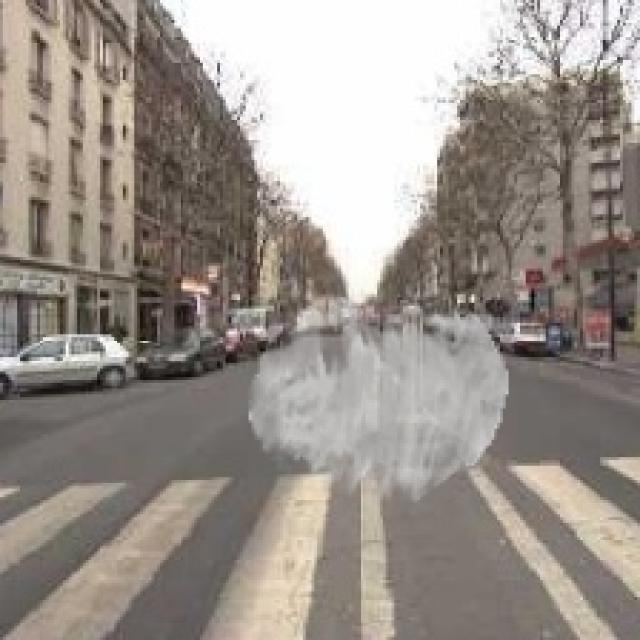Smoke: (248, 297, 508, 506)
